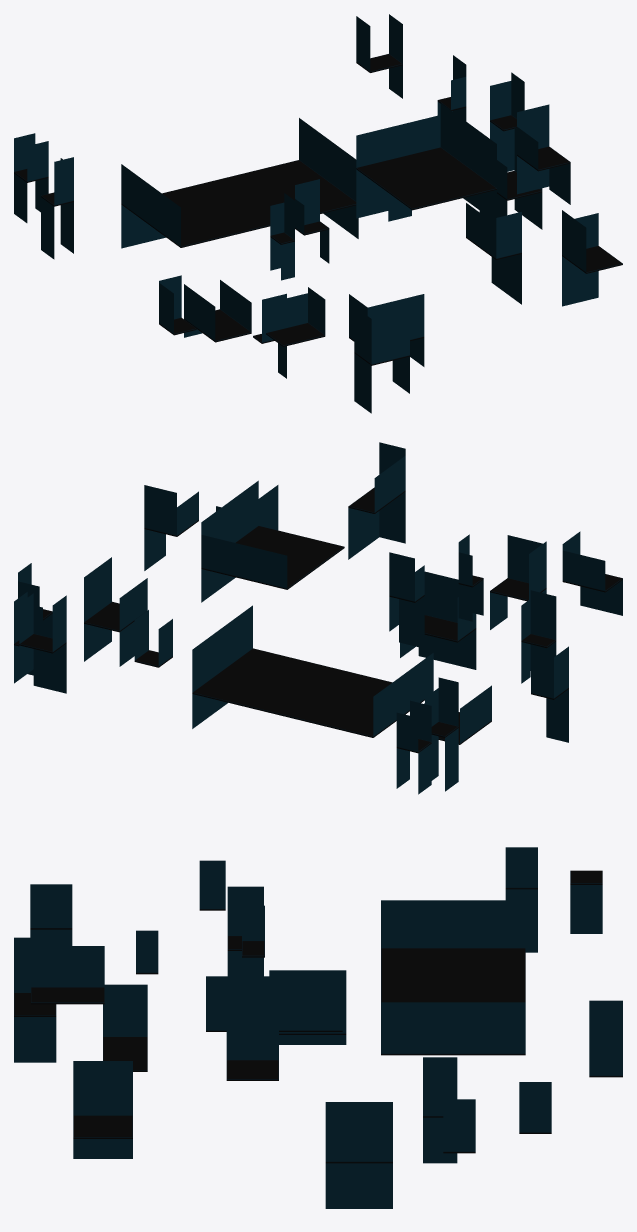
File: far_floor_c.glb
3 renders of one model, top to bottom at view 1: azimuth 30°, elevation 25°; view 2: azimuth 150°, elevation 25°; view 3: azimuth 270°, elevation 25°, orthographic. The views are drawn at different scales.
Parts seen in each view (by area): view 1: far_floor_skirt, tiles; view 2: far_floor_skirt, tiles; view 3: far_floor_skirt, tiles.
Boxes of the visible parts, left/top/right/bottom form: far_floor_skirt: left=14, top=14, right=598, bottom=413; tiles: left=14, top=54, right=622, bottom=365; far_floor_skirt: left=14, top=442, right=622, bottom=794; tiles: left=14, top=487, right=622, bottom=753; far_floor_skirt: left=14, top=847, right=622, bottom=1208; tiles: left=14, top=870, right=622, bottom=1163.
Bounding box in the file's own units: 10.16 × 3.94 × 9.89.
